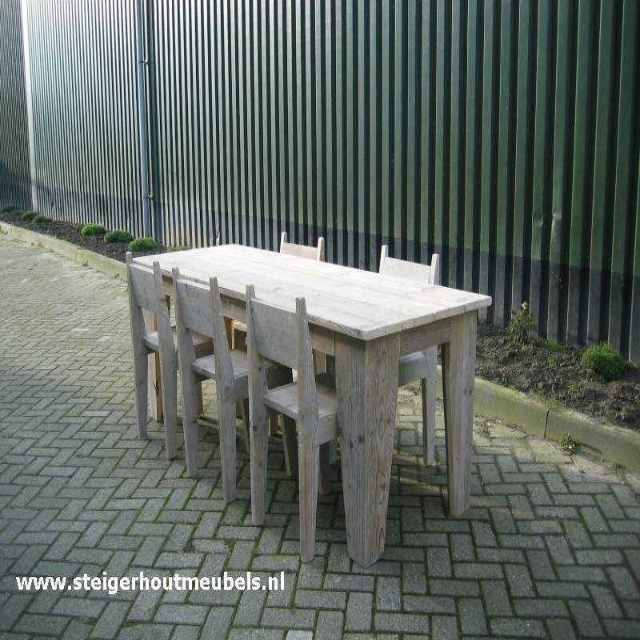obstacle: (135, 244, 490, 566)
